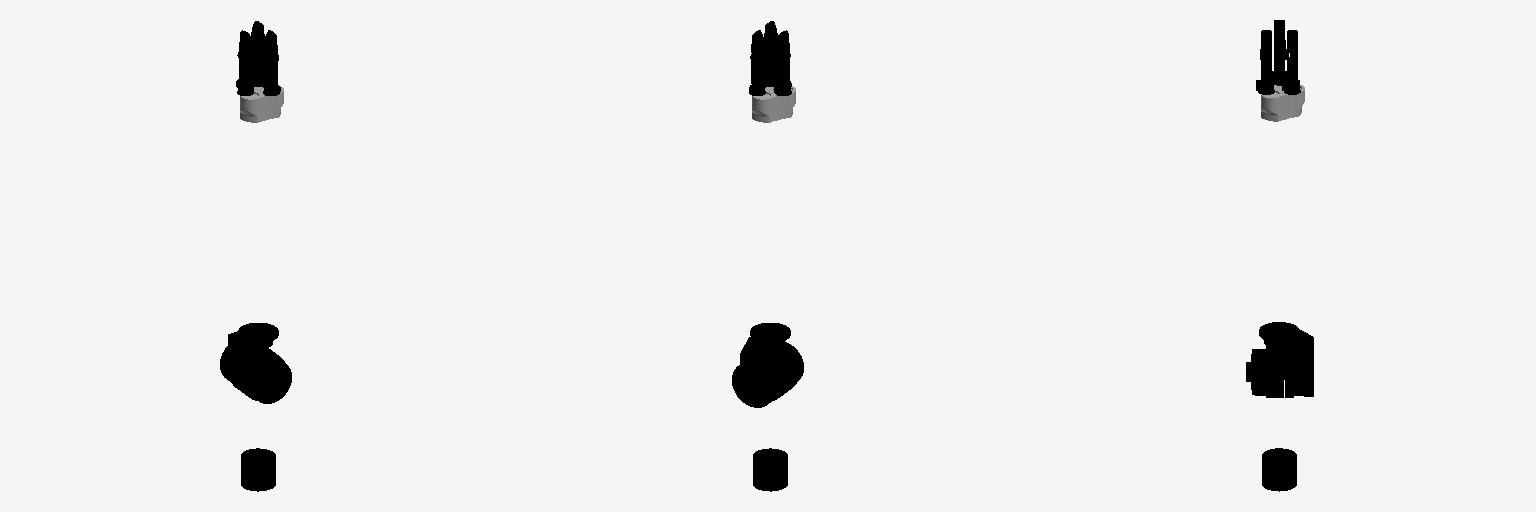
The robot description file, URDF, robot "lwa4d":
<?xml version="1.0"?>
<robot  name="lwa4d">

	<link name="world" />

	<!-- J0 -->
	<joint name="L0_joint" type="fixed" >
   		<origin  rpy="0 0 0" xyz="0 0 0" />
		<parent link="world" />
		<child link="L0_link" />
	</joint>

	<!-- L0 -->
	<link name="L0_link">
		<inertial>
				<origin xyz="0 0 0" rpy="0 0 0"/>
				<mass value="1.0"/>
				<inertia ixx="0.01" ixy="0" ixz="0" iyy="0.01" iyz="0" izz="0.01" />
			</inertial>

			<visual>
				<origin xyz="0 0 0.004" rpy="0 0 0" />
				<geometry>
					<cylinder radius="0.045" length="0.08"/>
				</geometry>
				<material name="Schunk_LightGrey">
					<color rgba="0.0 0.0 0.0 1.0"/>
				</material>
			</visual>

			<collision>
				<origin xyz="0 0 0.005" rpy="0 0 0" />
				<geometry>
					<box size="0.01 0.01 0.01"/>
				</geometry>
			</collision>
		</link>

	<!-- J1 -->
		<joint name="L1_joint" type="revolute">
			<origin xyz="0 0 0.1" rpy="0 -3.1416 0"/>
			<parent link="L0_link"/>
			<child link="L1_link"/>
			<axis xyz="0 0 1"/>
			<dynamics damping="10" />
			<limit effort="370" velocity="2.0" lower="-6.2831853" upper="6.2831853"/>
		</joint>

	<!-- L1 -->
		<link name="L1_link">
			<inertial>
				<origin xyz="0 0 0" rpy="0 0 0" />
				<!--mass value="5.9907"/-->
				<mass value="2.0"/>
				<inertia ixx="0.01" ixy="0" ixz="0" iyy="0.01" iyz="0" izz="0.01" />
			</inertial>
			
			<visual>
				<origin xyz="0 0 0" rpy="0 0 0" />
				<geometry>
					<mesh filename="package://apc_ros/data/models/lwa4d/meshes/arm_1_link.stl" />
				</geometry>
				<material name="Schunk_LightGrey">
					<color rgba="0.7 0.7 0.7 1.0"/>
				</material>
			</visual>
			
			<collision>
				<origin xyz="0 0 0" rpy="0 0 0" />
				<geometry>
					<mesh filename="package://apc_ros/data/models/lwa4d/meshes/arm_1_link.stl" />
				</geometry>
			</collision>
		</link>

	<!-- J2 -->
		<joint name="L2_joint" type="revolute">
			<origin xyz="0 0 -0.18" rpy="-1.57 0 0"/>
			<parent link="L1_link"/>
			<child link="L2_link"/>
			<axis xyz="0 0 1"/>
			<dynamics damping="10" />
			<limit effort="370" velocity="2.0" lower="-1.97" upper="1.97"/>
		</joint>

		<!-- L2 -->
		<link name="L2_link">
			<inertial>
				<origin xyz="0 0 0" rpy="0 0 0"/>
				<mass value="2.0"/>
				<inertia ixx="0.03" ixy="0" ixz="0" iyy="0.03" iyz="0" izz="0.03" />
			</inertial>
			
			<visual>
				<origin xyz="0 0 0" rpy="0 0 0" />
				<geometry>
					<mesh filename="package://apc_ros/data/models/lwa4d/meshes/arm_2_link.stl" />
				</geometry>
				<material name="Schunk_LightGrey" />
			</visual>
			
			<collision>
				<origin xyz="0 0 0" rpy="0 0 0" />
				<geometry>
					<mesh filename="package://apc_ros/data/models/lwa4d/meshes/arm_2_link.stl"/>
				</geometry>
			</collision>
		</link>

		<!-- J3-->	
		<joint name="L3_joint" type="revolute">
			<origin xyz="0 0 0" rpy="1.57 0 0"/>
			<parent link="L2_link"/>
			<child link="L3_link"/>
			<axis xyz="0 0 1"/>
			<dynamics damping="5" />
			<limit effort="176" velocity="2.0" lower="-6.2831853" upper="6.2831853"/>
		</joint>

		<!-- L3 -->
		<link name="L3_link">
			<inertial>
				<origin xyz="0 0 0" rpy="0 0 0"/>
				<mass value="2.0"/>
				<inertia ixx="0.03" ixy="0" ixz="0" iyy="0.03" iyz="0" izz="0.03" />
			</inertial>
			
			<visual>
				<origin xyz="0 0 0" rpy="0 0 0" />
				<geometry>
					<mesh filename="package://apc_ros/data/models/lwa4d/meshes/arm_3_link.stl" />
				</geometry>
				<material name="Schunk_LightGrey" />
			</visual>
			
			<collision>
				<origin xyz="0 0 0" rpy="0 0 0" />
				<geometry>
					<mesh filename="package://apc_ros/data/models/lwa4d/meshes/arm_3_link.stl"/>
				</geometry>
			</collision>
		</link>	

		<!-- J4 -->
		<joint name="L4_joint" type="revolute">
			<origin xyz="0 0 -0.328" rpy="-1.57 0 0"/>
			<parent link="L3_link"/>
			<child link="L4_link"/>
			<axis xyz="0 0 1" />
			<dynamics damping="5" />
			<limit effort="176" velocity="2.0" lower="-2.08208" upper="2.08208"/>
		</joint>

		<!-- L4 -->  
		<link name="L4_link">
			<inertial>
				<origin xyz="0 0 0" rpy="0 0 0"/>
				<mass value="2.0"/>
				<inertia ixx="0.03" ixy="0" ixz="0" iyy="0.03" iyz="0" izz="0.03" />
			</inertial>
			
			<visual>
				<origin xyz="0 0 0" rpy="0 0 0" />
				<geometry>
					<mesh filename="package://apc_ros/data/models/lwa4d/meshes/arm_4_link.stl" />
				</geometry>
				<material name="Schunk_LightGrey" />
			</visual>
			
			<collision>
				<origin xyz="0 0 0" rpy="0 0 0" />
				<geometry>
					<mesh filename="package://apc_ros/data/models/lwa4d/meshes/arm_4_link.stl"/>
				</geometry>
			</collision>
		</link>

		<!-- J5 -->
		<joint name="L5_joint" type="revolute">
			<origin xyz="0 0 0" rpy="1.57 0 0" />
			<parent link="L4_link"/>
			<child link="L5_link"/>
			<axis xyz="0 0 1" />
			<dynamics damping="5" />
			<limit effort="41.6" velocity="2.0" lower="-6.2831853" upper="6.2831853" />
		</joint>

		<!-- L5 -->
		<link name="L5_link">
			<inertial>
				<origin xyz="0 0 0" rpy="0 0 0"/>
				<mass value="2.313272"/>
				<inertia ixx="0.03" ixy="0" ixz="0" iyy="0.03" iyz="0" izz="0.03" />
			</inertial>
			
			<visual>
				<origin xyz="0 0 0" rpy="0 0 0" />
				<geometry>
					<mesh filename="package://apc_ros/data/models/lwa4d/meshes/arm_5_link.stl" />
				</geometry>
				<material name="Schunk_LightGrey" />
			</visual>
			
			<collision>
				<origin xyz="0 0 0" rpy="0 0 0" />
				<geometry>
					<mesh filename="package://apc_ros/data/models/lwa4d/meshes/arm_5_link.stl"/>
				</geometry>
			</collision>
		</link>

		<!-- J6 -->
		<joint name="L6_joint" type="revolute">
			<origin xyz="0 0 -0.323" rpy="1.57 0 0" />
			<parent link="L5_link"/>
			<child link="L6_link"/>
			<axis xyz="0 0 1" />
			<dynamics damping="5" />
			<limit effort="20.1" velocity="2.0" lower="-1.8" upper="1.8" />
		</joint>

		<!-- L6 -->
		<link name="L6_link">
			<inertial>
				<origin xyz="0 0 0" rpy="0 0 0"/>
				<mass value="2.057856"/>
				<inertia ixx="0.01" ixy="0" ixz="0" iyy="0.01" iyz="0" izz="0.01" />
			</inertial>
			
			<visual>
				<origin xyz="0 0 0" rpy="0 0 0" />
				<geometry>
					<mesh filename="package://apc_ros/data/models/lwa4d/meshes/arm_6_link.stl" />
				</geometry>
				<material name="Schunk_LightGrey" />
			</visual>
			
			<collision>
				<origin xyz="0 0 0" rpy="0 0 0" />
				<geometry>
					<mesh filename="package://apc_ros/data/models/lwa4d/meshes/arm_6_link.stl"/>
				</geometry>
			</collision>
		</link>

		<!-- J7-->
		<joint name="L7_joint" type="revolute">
			<origin xyz="0 -0.075 0" rpy="-1.57 0 0" />
			<parent link="L6_link"/>
			<child link="L7_link"/>
			<axis xyz="0 0 1" />
			<dynamics damping="5" />
			<limit effort="9.6" velocity="2.0" lower="-6.2831853" upper="6.2831853" />
		</joint>

		<!-- L7-->
		<link name="L7_link">
			<inertial>
				<origin xyz="0 0 0" rpy="0 0 0"/>
				<mass value="1.120198"/>
				<inertia ixx="0.01" ixy="0" ixz="0" iyy="0.01" iyz="0" izz="0.01" />
			</inertial>
			
			<visual>
				<origin xyz="0 0 0" rpy="0 0 0" />
				<geometry>
					<mesh filename="package://apc_ros/data/models/lwa4d/meshes/arm_7_link.stl" />
				</geometry>
				<material name="Schunk_LightGrey" />
			</visual>
			
			<collision>
				<origin xyz="0 0 0" rpy="0 0 0" />
				<geometry>
					<mesh filename="package://apc_ros/data/models/lwa4d/meshes/arm_7_link.stl"/>
				</geometry>
			</collision>
		</link>

		<!-- joint between L7_link and sdh_palm_link -->
		<joint name="palm_joint" type="fixed" >
			<origin xyz="0 0 -0.00" rpy="0 3.1416 0"/>
			<parent link="L7_link" />
			<child link="palm_link" />
		</joint>

		<link name="palm_link">
			<inertial>
				<origin xyz="0 0 0" rpy="0 0 0"/>
				<mass value="1"/>
				<inertia ixx="0.01" ixy="0" ixz="0" iyy="0.01" iyz="0" izz="0.01" />
			</inertial>
			
			<visual>
				<origin xyz="0 0 0" rpy="0 0 0" />
				<geometry>
					<mesh filename="package://apc_ros/data/models/sdh/meshes/palm.dae" />
				</geometry>
				<material name="Schunk_LightGrey">
					<color rgba="0.7 0.7 0.7 1.0"/>
				</material>
			</visual>
			
			<collision>
				<origin xyz="0 0 0" rpy="0 0 0" />
				<geometry>
					<mesh filename="package://apc_ros/data/models/sdh/meshes/palm.dae"/>
				</geometry>
			</collision>
		</link>
		
		<!-- grasp link -->
		<joint name="grasp_joint" type="fixed" >
			<origin xyz="0 0 0.15" rpy="0 0 0"/>
			<parent link="palm_link" />
			<child link="grasp_link" />
		</joint>

		<link name="grasp_link"/>

		<!-- tip link -->
		<joint name="tip_joint" type="fixed" >
			<origin xyz="0 0 0.22" rpy="0 0 0"/>
			<parent link="palm_link" />
			<child link="tip_link" />
		</joint>

		<link name="tip_link"/>

		<!-- finger1 -->
		<!-- joint between sdh_palm_link and sdh_finger_11_link -->
		<joint name="knuckle_joint" type="revolute">
			<origin xyz="0.01905 0.033 0.0745" rpy="0 0 3.14159265" />
			<parent link="palm_link"/>
			<child link="finger_11_link"/>
			<axis xyz="0 0 1" />
			<dynamics damping="1" />
			<limit effort="100" lower="0" upper="1.570796327" velocity="5"/>
		</joint>

		<link name="finger_11_link">
			<inertial>
				<origin xyz="0 0 0" rpy="0 0 0"/>
				<mass value="0.1"/>
				<inertia ixx="0.01" ixy="0" ixz="0" iyy="0.01" iyz="0" izz="0.01" />
			</inertial>
			
			<visual>
				<origin xyz="0 0 0" rpy="0 0 0" />
				<geometry>
					<mesh filename="package://apc_ros/data/models/sdh/meshes/knuckle.dae" />
				</geometry>
				<material name="Schunk_LightGrey" />
			</visual>
			
			<collision>
				<origin xyz="0 0 0" rpy="0 0 0" />
				<geometry>
				<mesh filename="package://apc_ros/data/models/sdh/meshes/knuckle.dae"/>
				</geometry>
			</collision>
		</link>

		<!-- joint between sdh_finger_11_link and sdh_finger_12_link -->
		<joint name="finger_12_joint" type="revolute">
			<origin xyz="0 0 0.0165" rpy="0 0 0" />
			<parent link="finger_11_link"/>
			<child link="finger_12_link"/>
			<axis xyz="0 1 0" />
			<dynamics damping="1" />
			<limit effort="100" lower="-1.570796327" upper="1.570796327" velocity="5"/>
		</joint>

		<link name="finger_12_link">
			<inertial>
				<origin xyz="0 0 0" rpy="0 0 0"/>
				<mass value="0.1"/>
				<inertia ixx="0.01" ixy="0" ixz="0" iyy="0.01" iyz="0" izz="0.01" />
			</inertial>
			
			<visual>
				<origin xyz="0 0 0" rpy="0 0 0" />
				<geometry>
					<mesh filename="package://apc_ros/data/models/sdh/meshes/finger.dae" />
				</geometry>
			<material name="Schunk_LightGrey" />
			</visual>
			
			<collision>
				<origin xyz="0 0 0" rpy="0 0 0" />
				<geometry>
					<mesh filename="package://apc_ros/data/models/sdh/meshes/finger.dae"/>
				</geometry>
			</collision>
		</link>

		<!-- joint between sdh_finger_12_link and sdh_finger_13_link -->
		<joint name="finger_13_joint" type="revolute">
			 
			<origin xyz="0 0 0.0865" rpy="0 0 0" />
			<parent link="finger_12_link"/>
			<child link="finger_13_link"/>
			<axis xyz="0 1 0" />
			<dynamics damping="1" />
			<limit effort="100" lower="-1.570796327" upper="1.570796327" velocity="5"/>
		</joint>

		<link name="finger_13_link">
			<inertial>
			<origin xyz="0 0 0" rpy="0 0 0"/>
				<mass value="0.1"/>
				<inertia ixx="0.01" ixy="0" ixz="0" iyy="0.01" iyz="0" izz="0.01" />
			</inertial>
			
			<visual>
				<origin xyz="0 0 0" rpy="0 0 0" />
				<geometry>
					<mesh filename="package://apc_ros/data/models/sdh/meshes/finger_tip.dae" />
				</geometry>
				<material name="Schunk_LightGrey" />
			</visual>
			
			<collision>
				<origin xyz="0 0 0" rpy="0 0 0" />
				<geometry>
					<mesh filename="package://apc_ros/data/models/sdh/meshes/finger_tip.dae"/>
				</geometry>
			</collision>
		</link>

		<!-- finger2 -->
		<!-- joint between sdh_palm_link and sdh_finger_21_link -->
		<joint name="finger_21_joint" type="revolute">
			<mimic joint="knuckle_joint" multiplier="1" offset="0"/>
			<origin xyz="0.01905 -0.033 0.0745" rpy="0 0 3.14159265" />
			<parent link="palm_link"/>
			<child link="finger_21_link"/>
			<axis xyz="0 0 -1" />
			<dynamics damping="1" />
			<limit effort="100" lower="0" upper="1.570796327" velocity="5"/>
		</joint>

		<link name="finger_21_link">
			<inertial>
				<origin xyz="0 0 0" rpy="0 0 0"/>
				<mass value="0.1"/>
				<inertia ixx="0.01" ixy="0" ixz="0" iyy="0.01" iyz="0" izz="0.01" />
			</inertial>
			
			<visual>
				<origin xyz="0 0 0" rpy="0 0 0" />
				<geometry>
					<mesh filename="package://apc_ros/data/models/sdh/meshes/knuckle.dae" />
				</geometry>
				<material name="Schunk_LightGrey" />
			</visual>
			
			<collision>
				<origin xyz="0 0 0" rpy="0 0 0" />
				<geometry>
					<mesh filename="package://apc_ros/data/models/sdh/meshes/knuckle.dae"/>
				</geometry>
			</collision>
		</link>

		<!-- joint between sdh_finger_21_link and sdh_finger_22_link -->
		<joint name="finger_22_joint" type="revolute">
			<origin xyz="0 0 0.0165" rpy="0 0 0" />
			<parent link="finger_21_link"/>
			<child link="finger_22_link"/>
			<axis xyz="0 1 0" />
			<dynamics damping="1" />
			<limit effort="100" lower="-1.570796327" upper="1.570796327" velocity="5"/>
		</joint>

		<link name="finger_22_link">
			<inertial>
				<origin xyz="0 0 0" rpy="0 0 0"/>
				<mass value="0.1"/>
				<inertia ixx="0.01" ixy="0" ixz="0" iyy="0.01" iyz="0" izz="0.01" />
			</inertial>
			
			<visual>
				<origin xyz="0 0 0" rpy="0 0 0" />
				<geometry>
					<mesh filename="package://apc_ros/data/models/sdh/meshes/finger.dae" />
				</geometry>
				<material name="Schunk_LightGrey" />
			</visual>
			
			<collision>
				<origin xyz="0 0 0" rpy="0 0 0" />
				<geometry>
					<mesh filename="package://apc_ros/data/models/sdh/meshes/finger.dae"/>
				</geometry>
			</collision>
		</link>

		<!-- joint between sdh_finger_22_link and sdh_finger_23_link -->
		<joint name="finger_23_joint" type="revolute">
			<origin xyz="0 0 0.0865" rpy="0 0 0" />
			<parent link="finger_22_link"/>
			<child link="finger_23_link"/>
			<axis xyz="0 1 0" />
			<dynamics damping="1" />
			<limit effort="100" lower="-1.570796327" upper="1.570796327" velocity="5"/>
		</joint>

		<link name="finger_23_link">
			<inertial>
				<origin xyz="0 0 0" rpy="0 0 0"/>
				<mass value="0.1"/>
				<inertia ixx="0.01" ixy="0" ixz="0" iyy="0.01" iyz="0" izz="0.01" />
			</inertial>
			
			<visual>
				<origin xyz="0 0 0" rpy="0 0 0" />
				<geometry>
					<mesh filename="package://apc_ros/data/models/sdh/meshes/finger_tip.dae" />
				</geometry>
				<material name="Schunk_LightGrey" />
			</visual>
			
			<collision>
				<origin xyz="0 0 0" rpy="0 0 0" />
				<geometry>
					<mesh filename="package://apc_ros/data/models/sdh/meshes/finger_tip.dae"/>
				</geometry>
			</collision>
		</link>

		<!-- thumb -->
		<!-- joint between sdh_palm_link and sdh_thumb_1_link -->
		<joint name="thumb_1_joint" type="fixed">
			<origin xyz="-0.03811 0 0.0745 " rpy="0 0 0" />
			<parent link="palm_link"/>
			<child link="thumb_1_link"/>
		</joint>

		<link name="thumb_1_link">
			<inertial>
				<origin xyz="0 0 0" rpy="0 0 0"/>
				<mass value="0.1"/>
				<inertia ixx="0.01" ixy="0" ixz="0" iyy="0.01" iyz="0" izz="0.01" />
			</inertial>
			
			<visual>
				<origin xyz="0 0 0" rpy="0 0 0" />
				<geometry>
					<mesh filename="package://apc_ros/data/models/sdh/meshes/knuckle.dae" />
				</geometry>
				<material name="Schunk_LightGrey" />
			</visual>
			
			<collision>
				<origin xyz="0 0 0" rpy="0 0 0" />
				<geometry>
					<mesh filename="package://apc_ros/data/models/sdh/meshes/knuckle.dae"/>
				</geometry>
			</collision>
		</link>

		<!-- joint between sdh_thumb_1_link and shd_thumb_2_link -->
		<joint name="thumb_2_joint" type="revolute">
		<origin xyz="0 0 0.0165" rpy="0 0 0" />
		<parent link="thumb_1_link"/>
		<child link="thumb_2_link"/>
		<axis xyz="0 1 0" />
		<dynamics damping="1" />
		<limit effort="100" lower="-1.570796327" upper="1.570796327" velocity="5"/>
		</joint>

		<link name="thumb_2_link">
			<inertial>
				<origin xyz="0 0 0" rpy="0 0 0"/>
				<mass value="0.1"/>	
				<inertia ixx="0.01" ixy="0" ixz="0" iyy="0.01" iyz="0" izz="0.01" />
			</inertial>
		
			<visual>
				<origin xyz="0 0 0" rpy="0 0 0" />
				<geometry>
					<mesh filename="package://apc_ros/data/models/sdh/meshes/finger.dae" />
				</geometry>
				<material name="Schunk_LightGrey" />
			</visual>
		
			<collision>
				<origin xyz="0 0 0" rpy="0 0 0" />
				<geometry>
					<mesh filename="package://apc_ros/data/models/sdh/meshes/finger.dae"/>
				</geometry>
			</collision>
		</link>

		<!-- joint between sdh_thumb_2_link and sdh_thumb_3_link -->
		<joint name="thumb_3_joint" type="revolute">
			<origin xyz="0 0 0.0865" rpy="0 0 0" />
			<parent link="thumb_2_link"/>
			<child link="thumb_3_link"/>
			<axis xyz="0 1 0" />
			<dynamics damping="1" />
			<limit effort="100" lower="-1.570796327" upper="1.570796327" velocity="5"/>
		</joint>

		<link name="thumb_3_link">
			<inertial>
				<origin xyz="0 0 0" rpy="0 0 0"/>
				<mass value="0.1"/>
				<inertia ixx="0.01" ixy="0" ixz="0" iyy="0.01" iyz="0" izz="0.01" />
			</inertial>
			
			<visual>
				<origin xyz="0 0 0" rpy="0 0 0" />
				<geometry>
					<mesh filename="package://apc_ros/data/models/sdh/meshes/finger_tip.dae" />
				</geometry>
				<material name="Schunk_LightGrey" />
			</visual>
			
			<collision>
				<origin xyz="0 0 0" rpy="0 0 0" />
				<geometry>
					<mesh filename="package://apc_ros/data/models/sdh/meshes/finger_tip.dae"/>
				</geometry>
			</collision>
		</link>

</robot>

--- Render facts (derived) ---
3 views of the same robot in one strip: view 1: azimuth 30°, elevation 25°; view 2: azimuth 150°, elevation 25°; view 3: azimuth 270°, elevation 25° (orthographic).
Robot: lwa4d — 21 links, 20 joints (15 revolute, 5 fixed); root link world; default pose: all joints at 0.
Links seen in each view (by area): view 1: L2_link, L0_link, palm_link; view 2: L2_link, L0_link, palm_link; view 3: L2_link, L0_link, palm_link.
Boxes of the visible links, x1=… form: L2_link: x1=220, y1=323, x2=291, y2=403; L0_link: x1=241, y1=448, x2=275, y2=491; palm_link: x1=240, y1=86, x2=283, y2=122; L2_link: x1=732, y1=323, x2=803, y2=407; L0_link: x1=753, y1=448, x2=787, y2=491; palm_link: x1=752, y1=86, x2=795, y2=122; L2_link: x1=1246, y1=322, x2=1313, y2=397; L0_link: x1=1262, y1=448, x2=1296, y2=491; palm_link: x1=1261, y1=85, x2=1304, y2=121.
Bounding box of the posed robot: 0.132 × 0.1763 × 1.29 m (x, y, z).
Meshes: 11 distinct files referenced, 11 mesh visuals loaded (1 binary STL, 4 Collada DAE); not drawn: 6 (reference not matched to a file when rendering).
